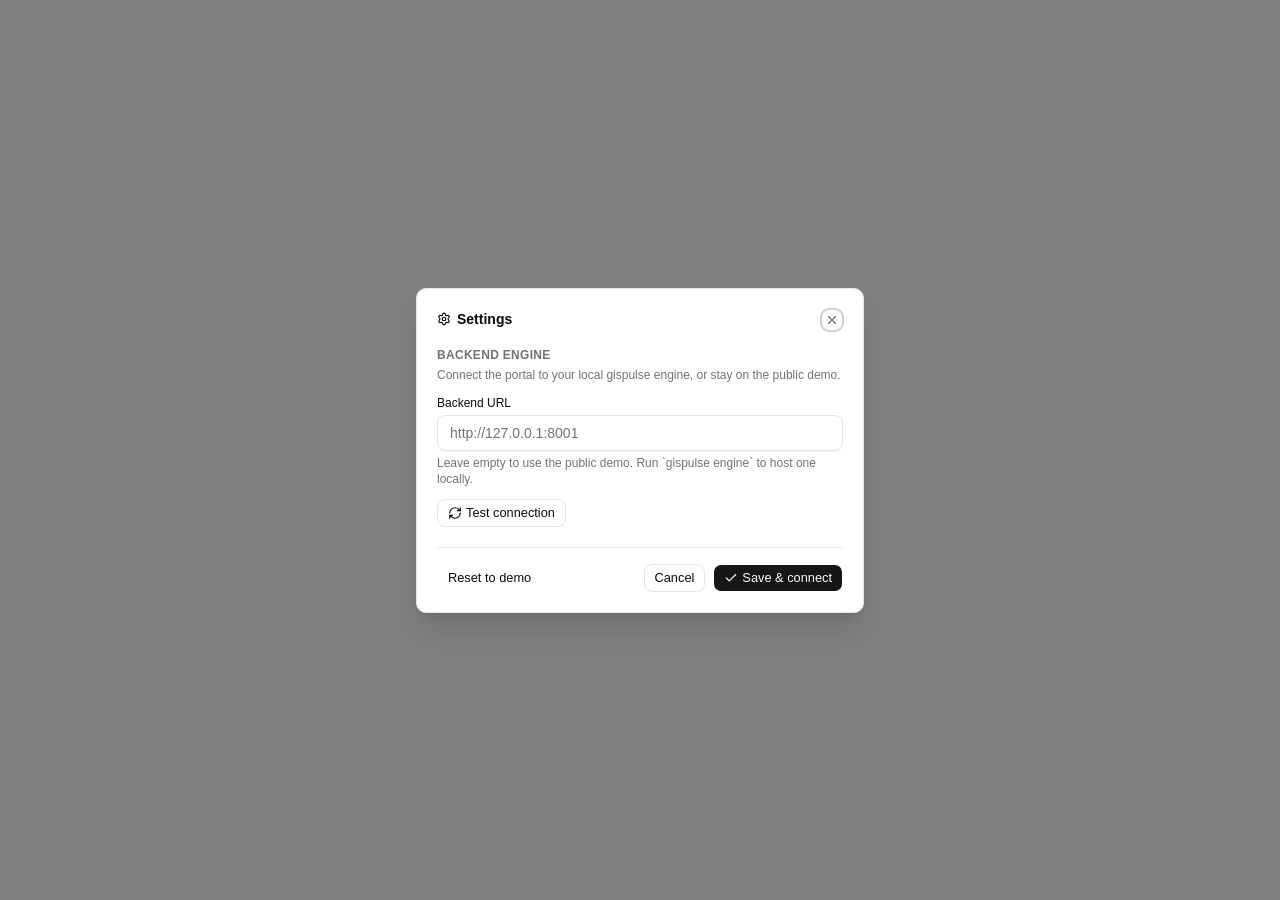
Scenario: SettingsPanel › shows validation error for non-http URL
The image size is (1280, 900).
Type "ws://example.com" into the field labelled "Backend URL" at (640, 432), box [437,414,843,450]
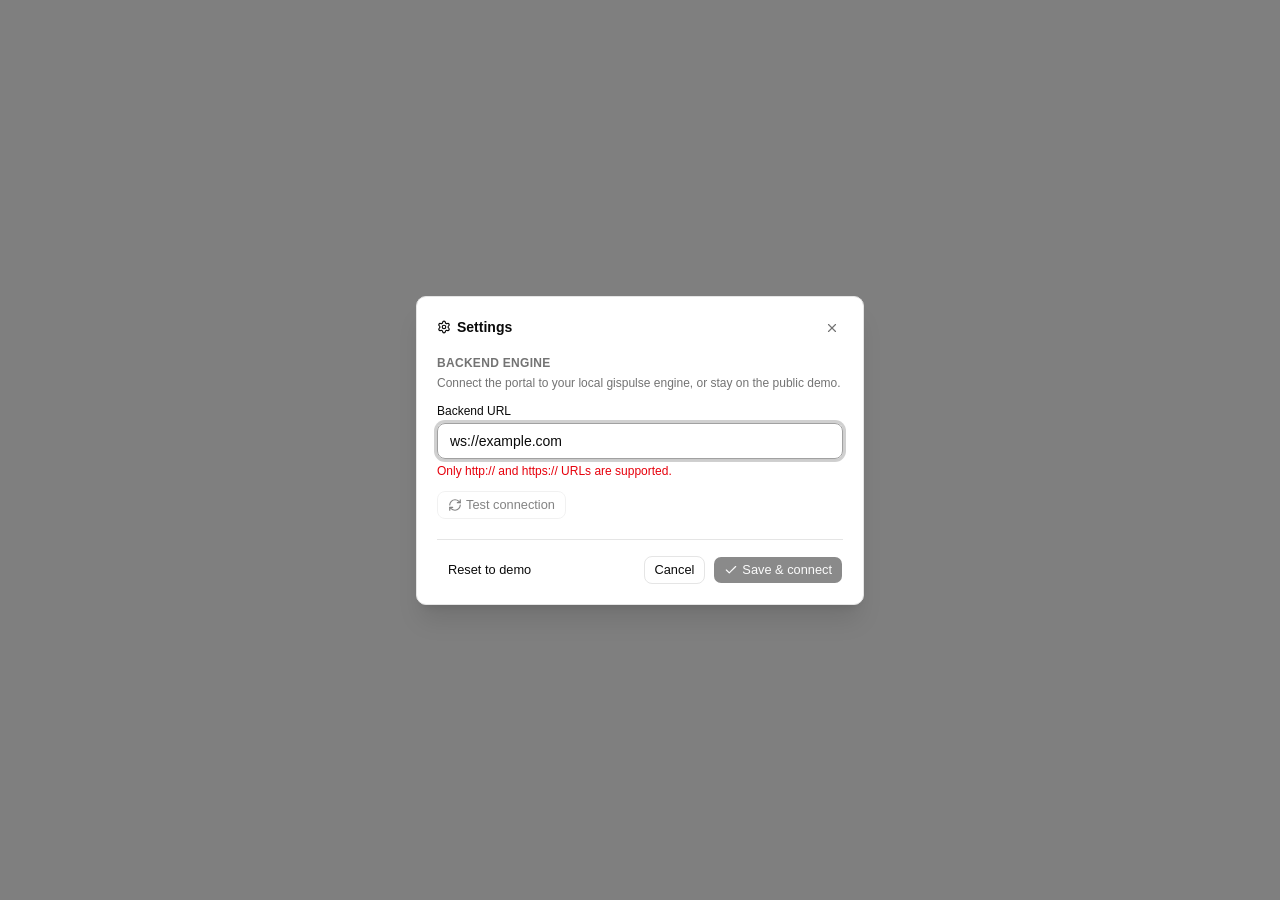
Check: the message shows "http", box [437,464,672,478]
